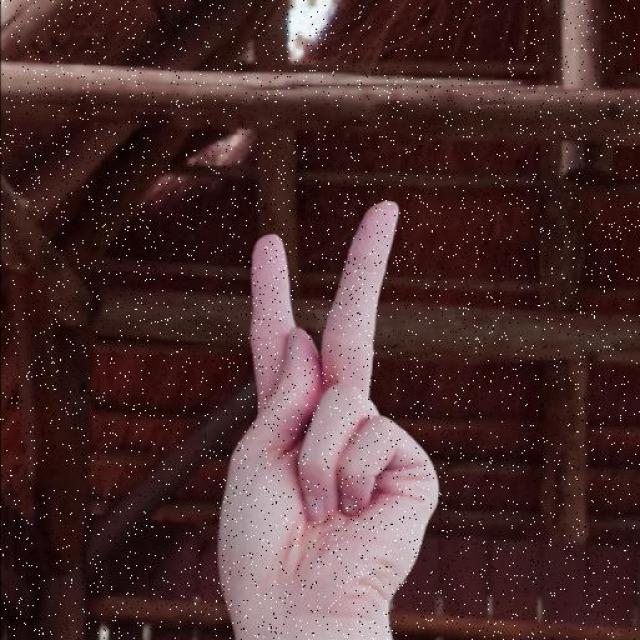K: (178, 176, 466, 640)
